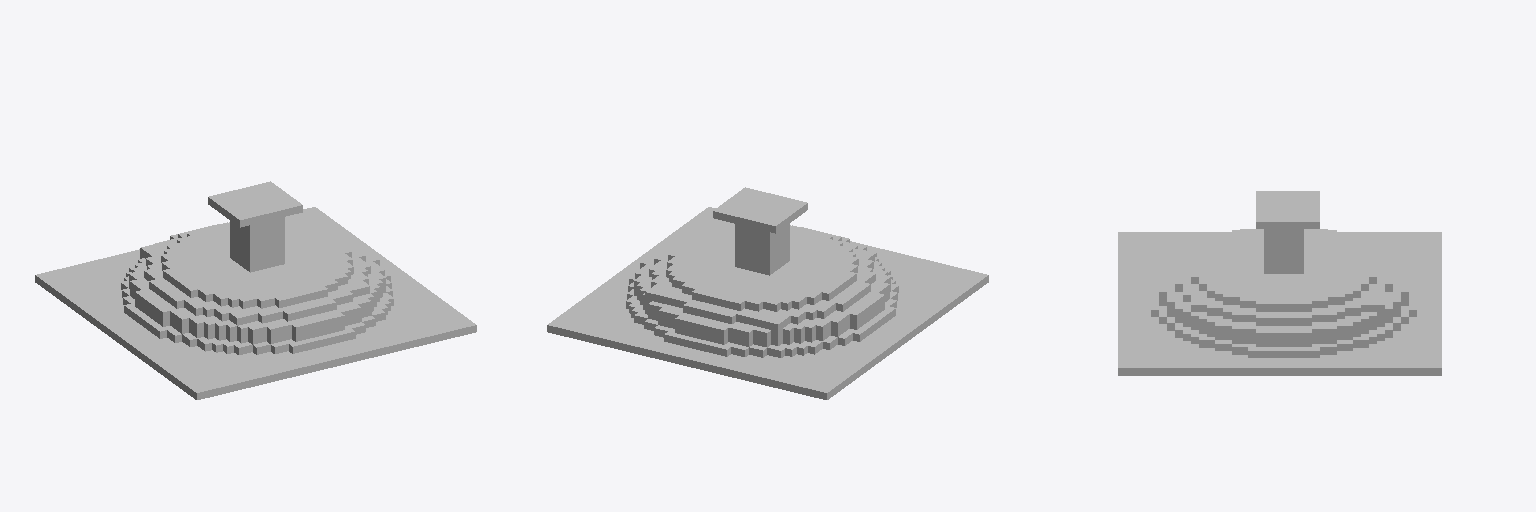
File: Leg Arty.obj
3 renders of one model, left to right at view 1: azimuth 30°, elevation 25°; view 2: azimuth 150°, elevation 25°; view 3: azimuth 270°, elevation 25°, orthographic.
Parts seen in each view (by area): view 1: Leg Arty; view 2: Leg Arty; view 3: Leg Arty.
Boxes of the visible parts, x1,y1,x2,y2 form: Leg Arty: [35, 181, 476, 399]; Leg Arty: [547, 187, 988, 399]; Leg Arty: [1118, 191, 1441, 375].
Size of the model in its own units: 40 by 14 by 40.